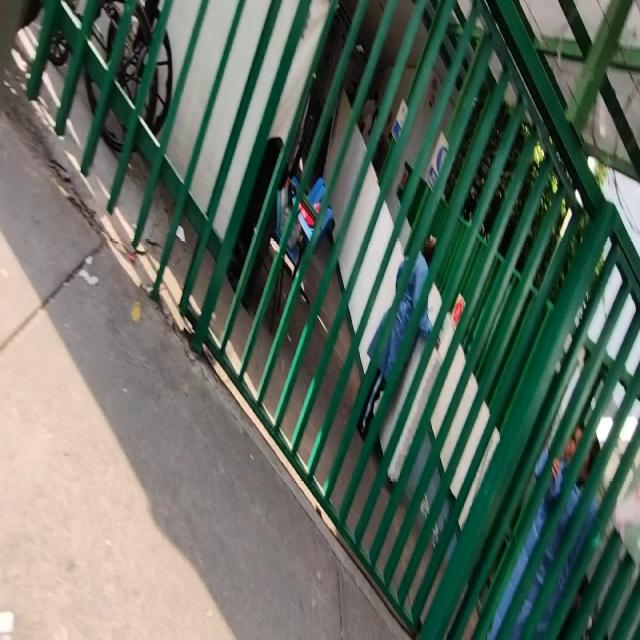adult: (488, 424, 600, 640), (359, 236, 439, 442)
